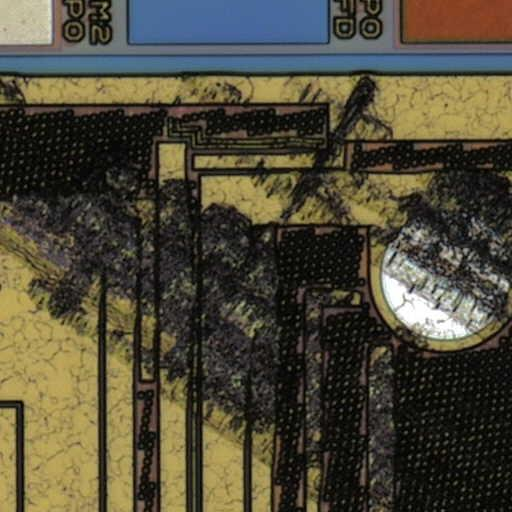SCRATCH: (1, 68, 512, 512)
